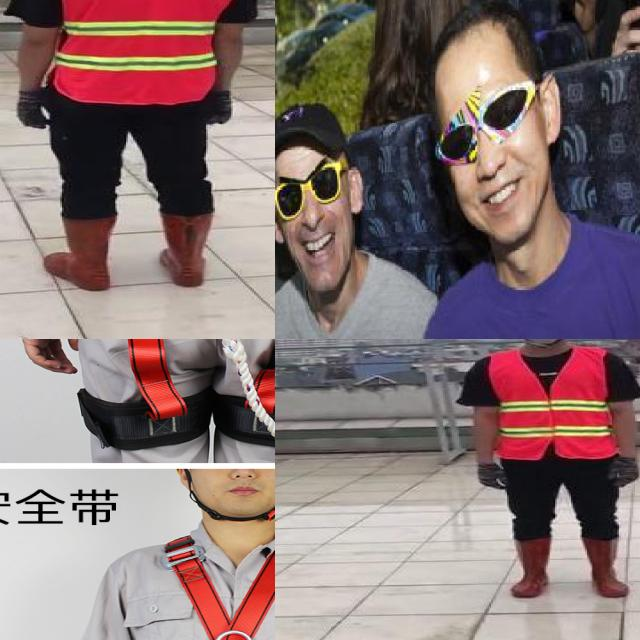Harness: (154, 533, 275, 640)
boots: (42, 213, 119, 291), (155, 212, 232, 287), (582, 534, 633, 598), (507, 537, 559, 598)
face_nomask: (436, 96, 540, 214), (275, 174, 357, 271)
glasses: (429, 82, 537, 168), (275, 163, 348, 219)
hand_glove: (11, 89, 56, 129), (199, 92, 240, 125), (608, 457, 640, 488), (475, 462, 509, 489)
head_nohelmet: (428, 6, 534, 70), (275, 106, 347, 168)
person: (401, 4, 640, 339), (0, 0, 272, 292), (455, 339, 640, 601), (275, 84, 437, 339)
vest: (49, 0, 232, 102), (491, 347, 612, 461)
